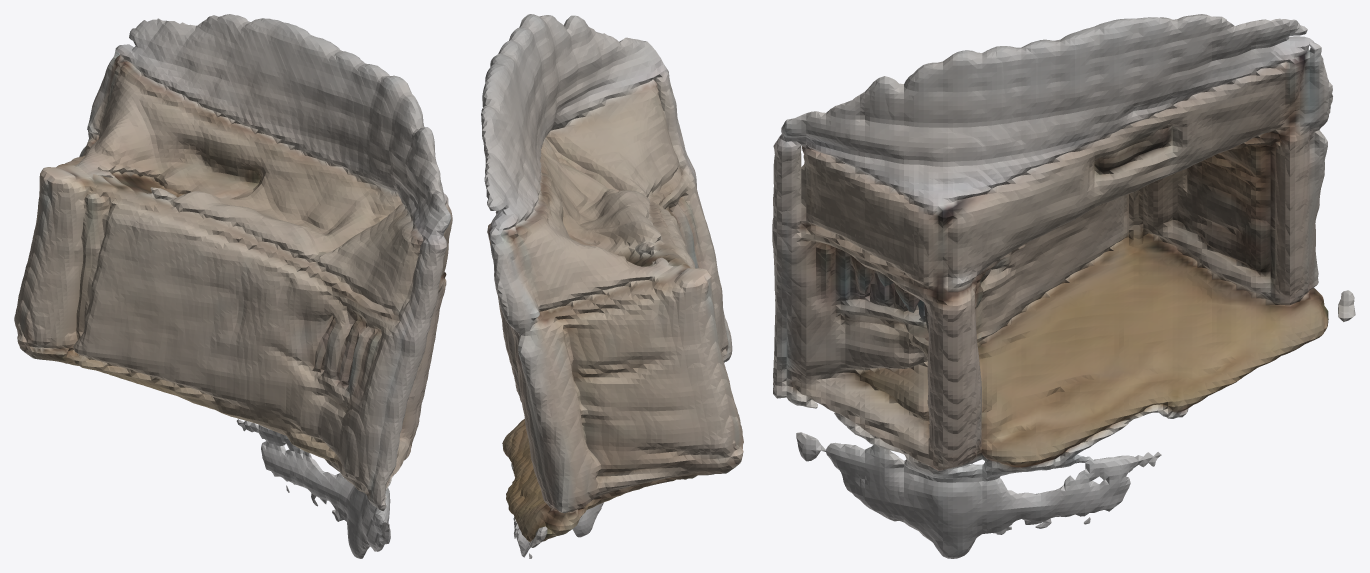
3 renders of one model, left to right at view 1: azimuth 30°, elevation 25°; view 2: azimuth 150°, elevation 25°; view 3: azimuth 270°, elevation 25°, orthographic. The views are drawn at different scales.
Parts seen in each view (by area): view 1: world; view 2: world; view 3: world.
Part boxes in pixels (x1,y1,x2,y2): world: (14, 14, 452, 558); world: (481, 14, 743, 558); world: (772, 14, 1355, 558).
Size of the model in its own units: 0.5998 by 0.8363 by 0.815.
